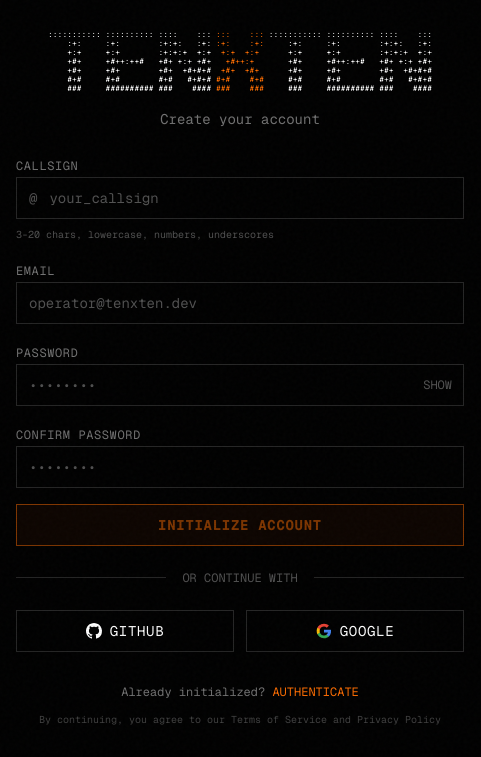
Test case: Signup Page › should show password strength indicator when typing password
The image size is (481, 757).
Type "weak" into the password field labelled "Password" at (240, 384), box [16,364,464,406]
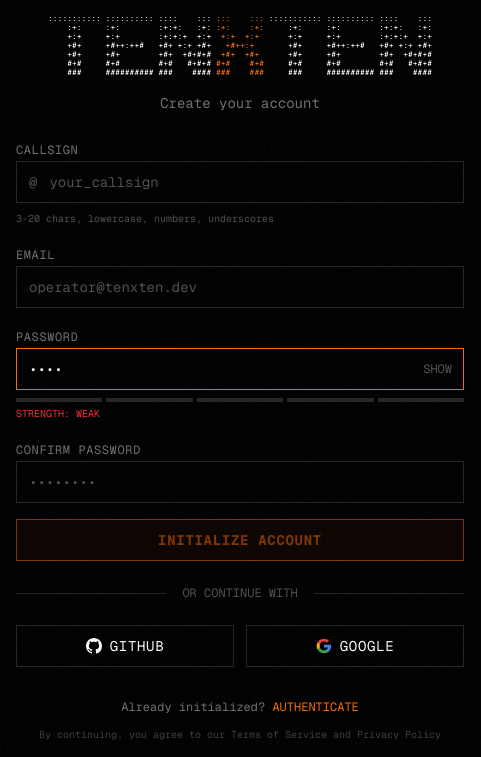
Expected: the text "STRENGTH: WEAK" is shown, [16,407,100,420]
